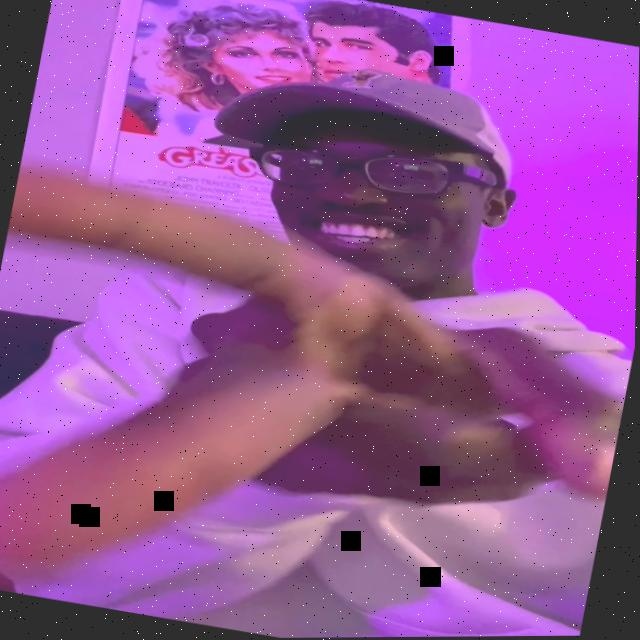Scissors: (0, 158, 638, 640)
